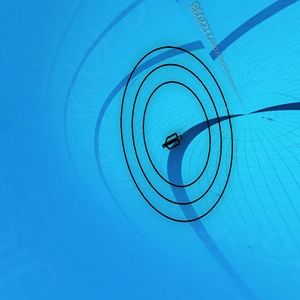circle: (111, 40, 237, 229)
submarine: (161, 134, 181, 151)
